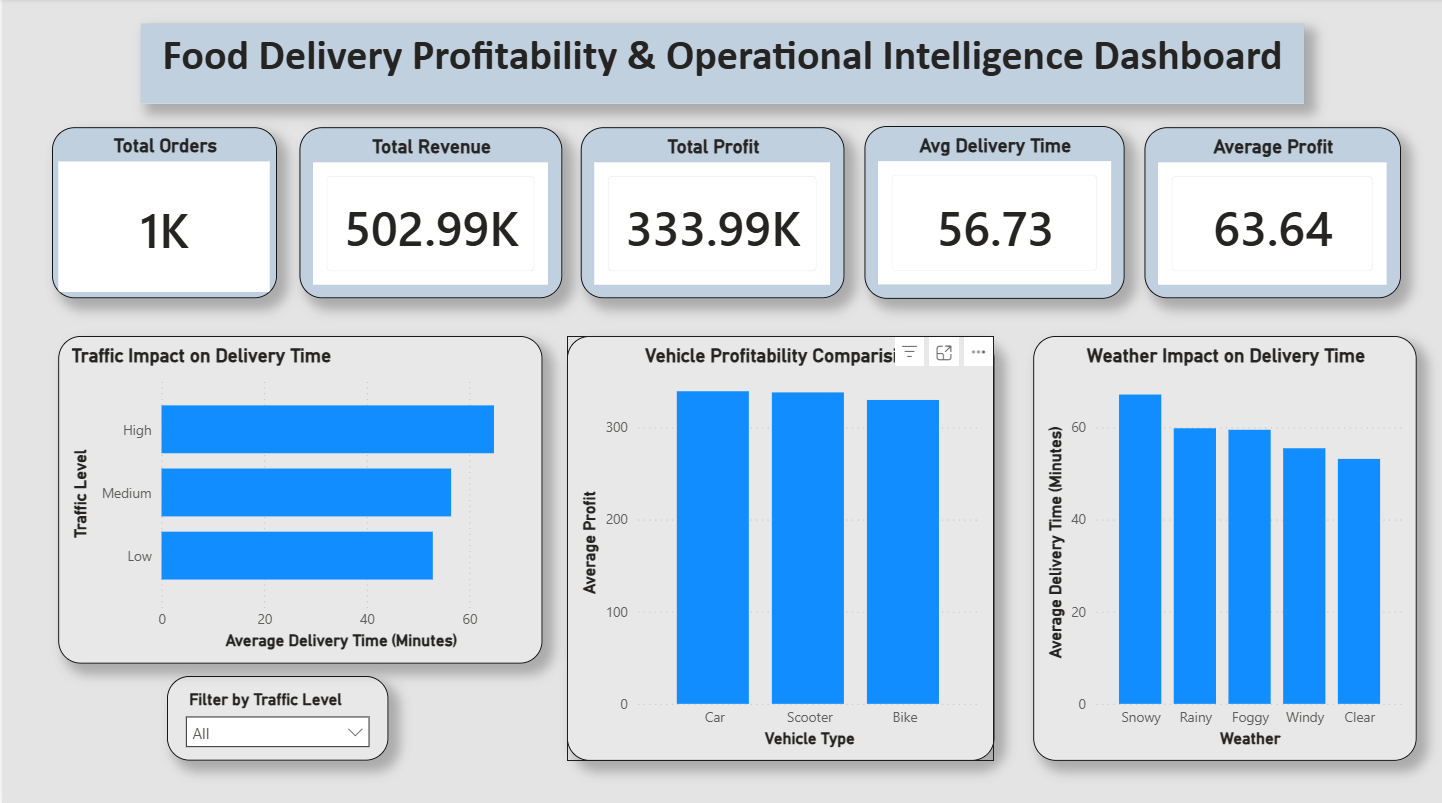

Layout of this report page (visuals, bound fields, positions):
{"tool":"powerbi","page":{"name":"Executive Overview","canvas":[1280,720],"ordinal":0},"visuals":[{"type":"textbox","box":[123.3,24.4,1034.4,71.1],"z":0},{"type":"cardVisual","title":"Total Orders","fields":{"Data":["Sum(executive_summary.Total_Orders)"]},"box":[44.4,116.7,200,152.2],"z":1000},{"type":"cardVisual","title":"Total Revenue","fields":{"Data":["Sum(executive_summary.Total_Revenue)"]},"box":[264.4,116.7,233.3,152.2],"z":2000},{"type":"cardVisual","title":"Total Profit","fields":{"Data":["Sum(executive_summary.Total_Profit)"]},"box":[514.4,116.7,234.4,152.2],"z":3000},{"type":"cardVisual","title":"Avg Delivery Time","fields":{"Data":["Sum(executive_summary.Average_Delivery_Time)"]},"box":[766.7,115.6,231.1,153.3],"z":4000},{"type":"cardVisual","title":"Average Profit","fields":{"Data":["Sum(executive_summary.Average_Profit_Margin)"]},"box":[1015.6,116.7,227.8,152.2],"z":5000},{"type":"clusteredBarChart","title":"Traffic Impact on Delivery Time","fields":{"Category":["traffic_analysis.Traffic_Level"],"Y":["Sum(traffic_analysis.Average_Delivery_Time)"]},"box":[50,302.2,430,291.1],"z":6000},{"type":"clusteredColumnChart","title":"Vehicle Profitability Comparision","fields":{"Category":["vehicle_analysis.Vehicle_Type"],"Y":["Sum(vehicle_analysis.Average_Profit)"]},"box":[502.2,302.2,380,377.8],"z":7000},{"type":"lineStackedColumnComboChart","title":"Weather Impact on Delivery Time","fields":{"Category":["weather_analysis.Weather"],"Y":["Sum(weather_analysis.Average_Delivery_Time)"]},"box":[916.7,302.2,341.1,377.8],"z":8000},{"type":"slicer","fields":{"Values":["traffic_analysis.Traffic_Level"]},"box":[146.7,604.4,196.7,75.6],"z":9000}]}

Visuals, with their boxes in screenshot pixels (x1, y1, x2, y2), scaled from the page's 1280x720 canvas onto the 1442x803 screenshot:
textbox: 139/27/1304/107
"Total Orders" cardVisual: 50/130/275/300
"Total Revenue" cardVisual: 298/130/561/300
"Total Profit" cardVisual: 580/130/844/300
"Avg Delivery Time" cardVisual: 864/129/1124/300
"Average Profit" cardVisual: 1144/130/1401/300
"Traffic Impact on Delivery Time" clusteredBarChart: 56/337/541/662
"Vehicle Profitability Comparision" clusteredColumnChart: 566/337/994/758
"Weather Impact on Delivery Time" lineStackedColumnComboChart: 1033/337/1417/758
slicer - traffic_analysis.Traffic_Level: 165/674/387/758
